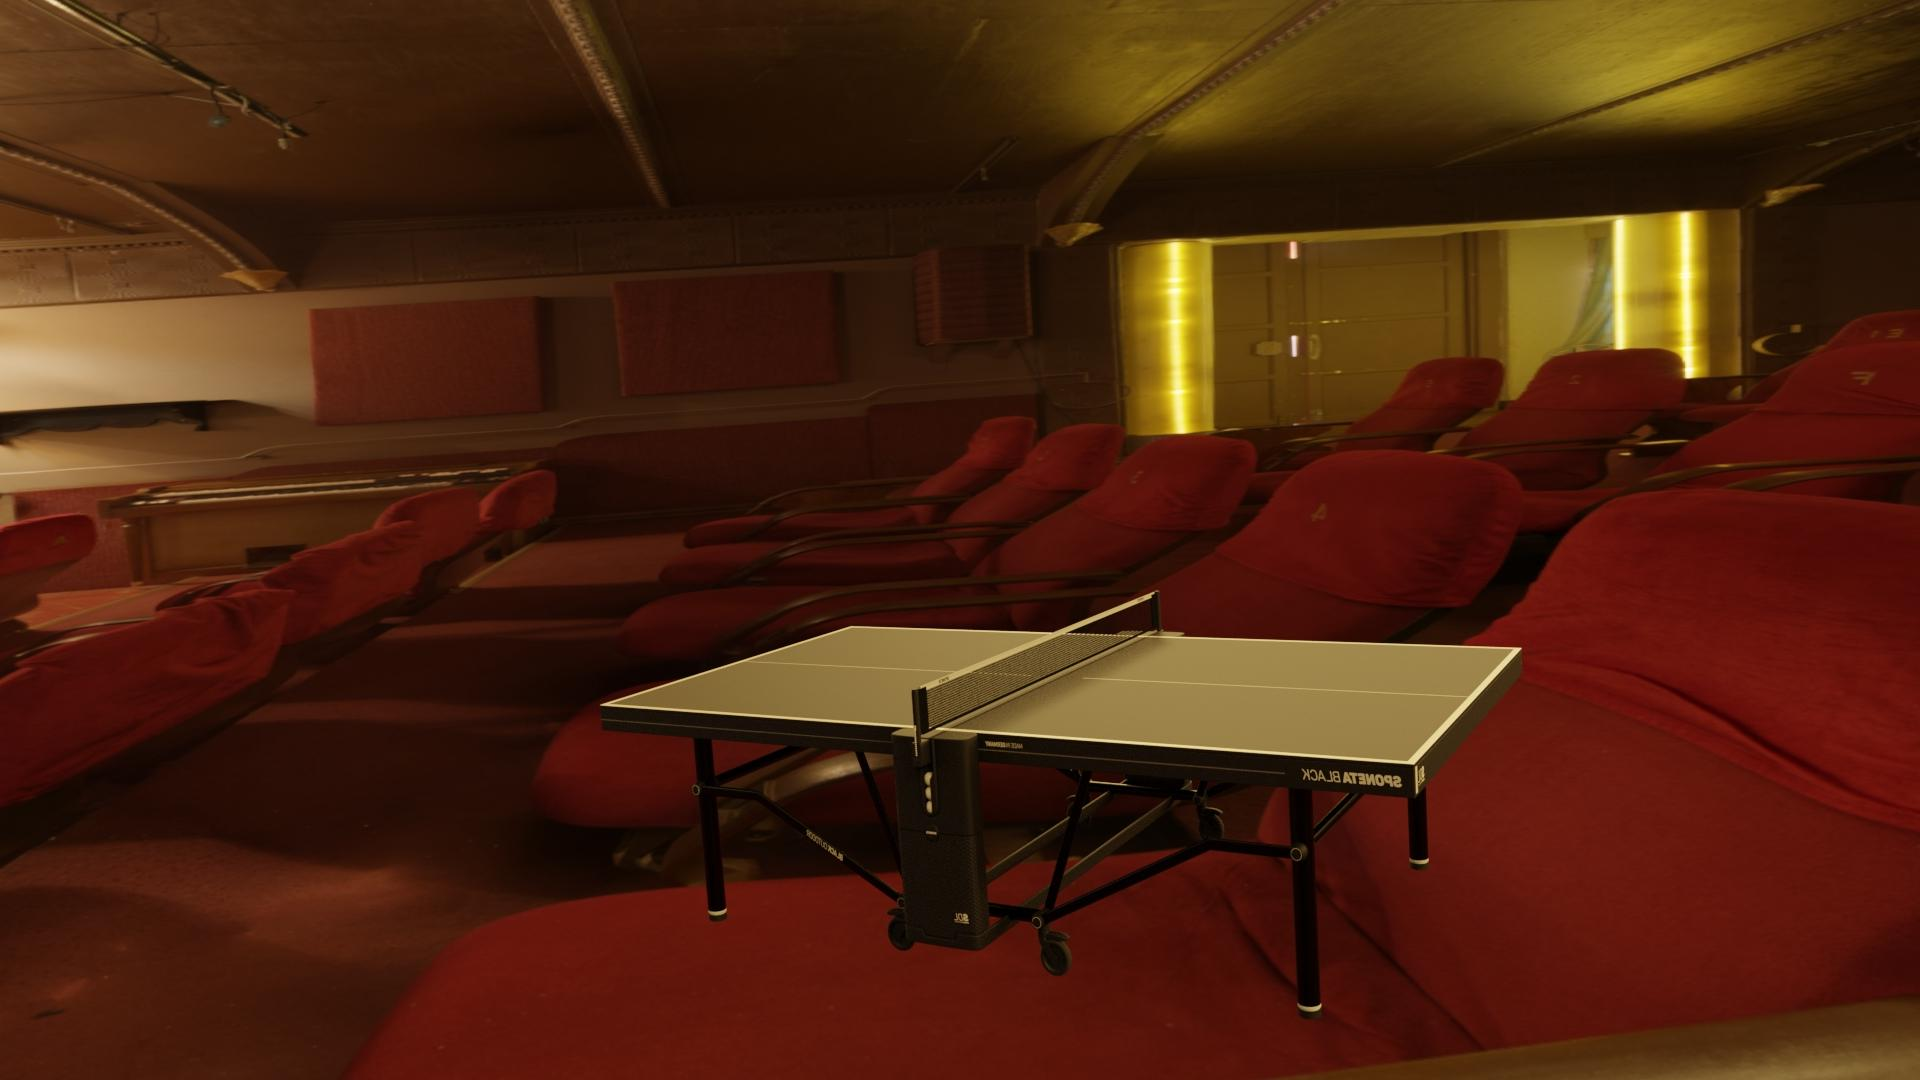table: (608, 628, 1514, 761)
